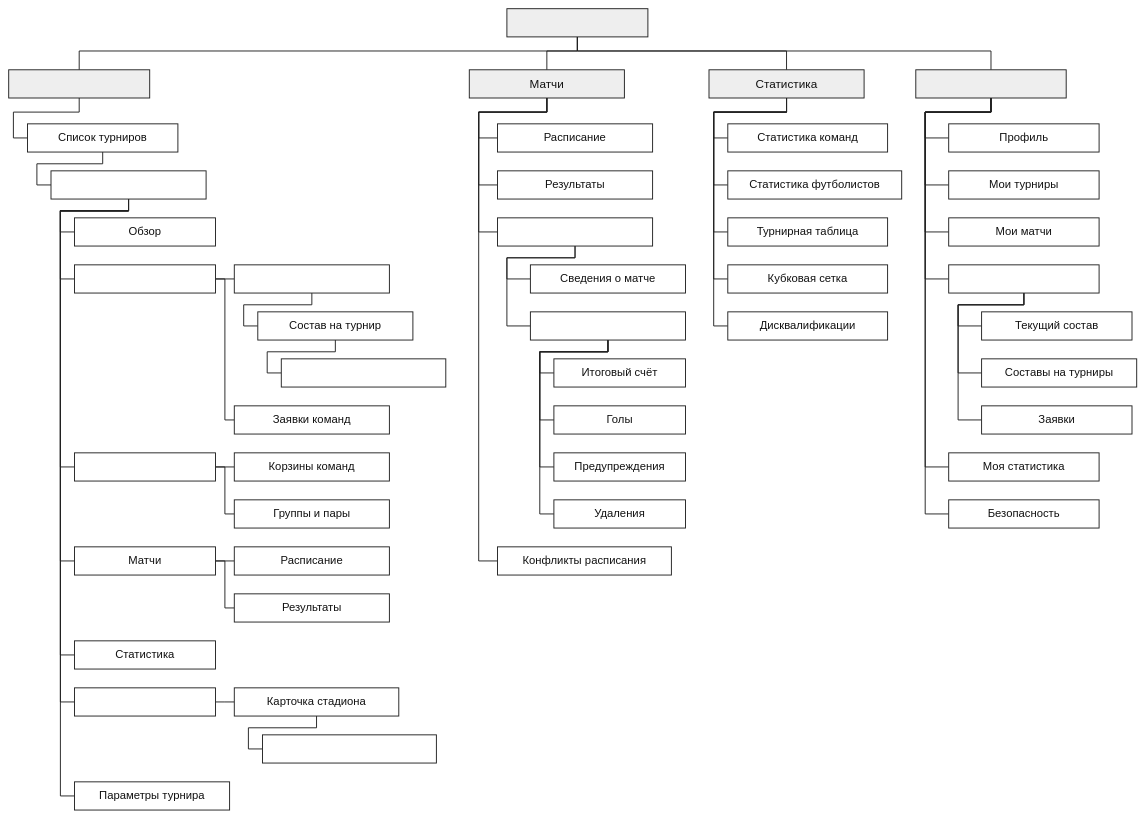
The diagram is 1145 pixels wide and 818 high, and some of its shapes have lost their labels. Each missing label, with the centre of its shape:
"Goalissimo" belongs at [577,22].
"Жеребьёвка" belongs at [145,466].
"Карточка команды" belongs at [312,278].
"Карточка матча" belongs at [575,231].
"Карточка турнира" belongs at [128,184].
"Карточка футболиста" belongs at [363,372].
"Команды" belongs at [145,278].
"Личный кабинет" belongs at [990,83].
"Моя команда" belongs at [1023,278].
"Периоды доступности" belongs at [349,748].
"Протокол матча" belongs at [608,325].
"Стадионы" belongs at [145,701].
"Турниры" belongs at [79,83].
